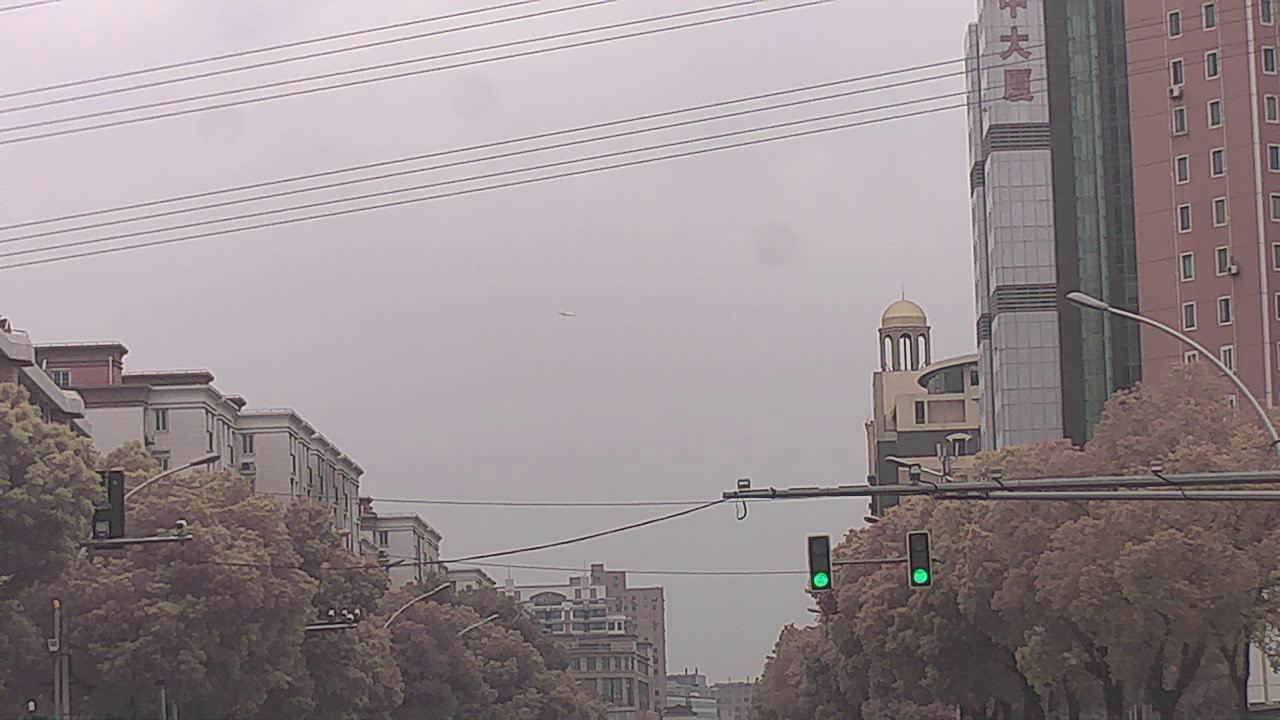traffic_light: (906, 532, 937, 589), (808, 537, 835, 593)
